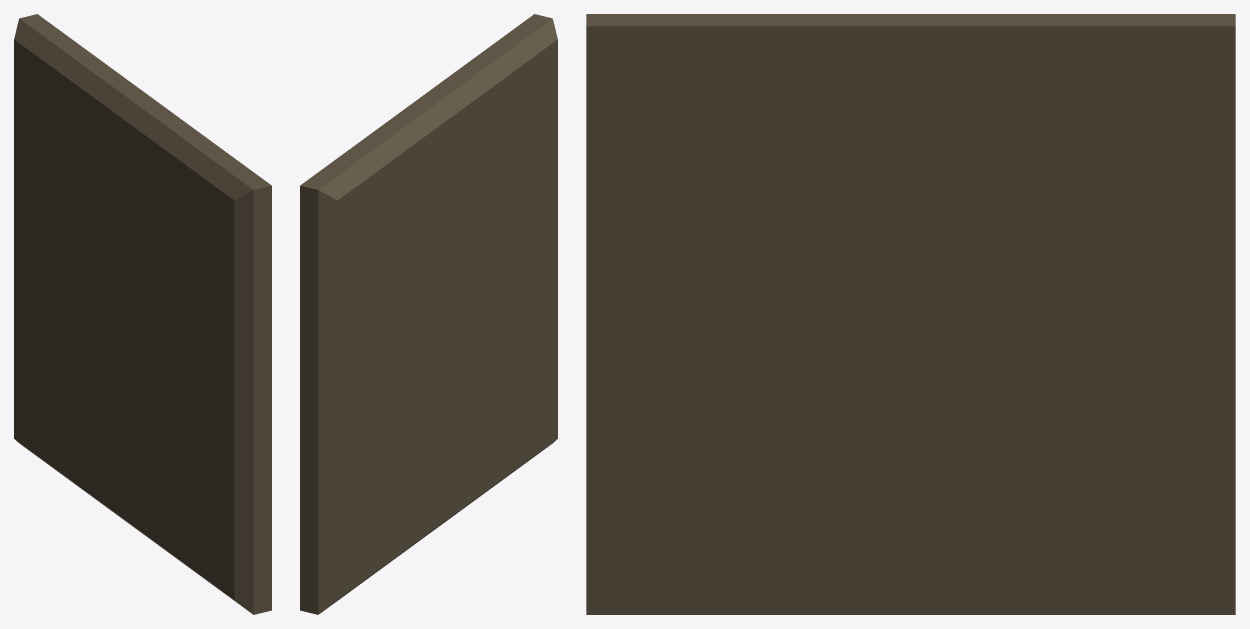
File: WallTile.fbx
3 renders of one model, left to right at view 1: azimuth 30°, elevation 25°; view 2: azimuth 150°, elevation 25°; view 3: azimuth 270°, elevation 25°, orthographic. The views are drawn at different scales.
Visible parts, largest first — view 1: WallTile11; view 2: WallTile11; view 3: WallTile11.
Boxes of the visible parts, box(x1,y1,x2,y2) form: WallTile11: box(14, 14, 271, 614); WallTile11: box(300, 14, 557, 614); WallTile11: box(586, 14, 1235, 614).
Bounding box in the file's own units: 0.0752 × 1 × 1.
